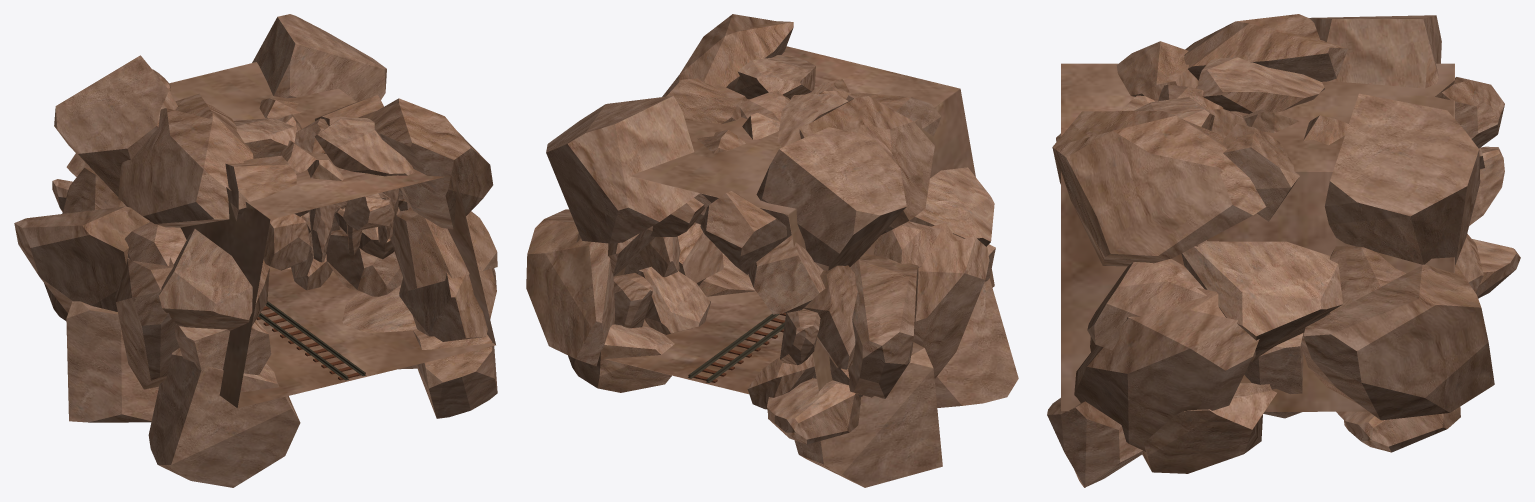
Rendered from MESH_Cave_Loop_1.fbx.
3 renders of one model, left to right at view 1: azimuth 30°, elevation 25°; view 2: azimuth 150°, elevation 25°; view 3: azimuth 270°, elevation 25°, orthographic. The views are drawn at different scales.
Visible parts, largest first — view 1: Ground, Rock1.019, Rock2.025, Rock2.022, Rock1.018, Rock2.012, Rock1.020, Rock1.009, Rock2.016, Rock2.021, Rock1.008, Rock1.021 (+20 smaller); view 2: Ground, Rock1.009, Rock1.018, Rock1.020, Rock2.009, Rock2.022, Rock2.021, Rock1.019, Rock2.025, Rock2.012, Rock2.029, Rock1.012 (+22 smaller); view 3: Ground, Rock2.012, Rock2.009, Rock1.009, Rock2.008, Rock2.003, Rock1.018, Rock2.027, Rock2.025, Rock1.008, Rock2.026, Rock1.021 (+14 smaller).
Part boxes in pixels (bbox=[...]): Ground: bbox=[150, 62, 495, 408]; Rock1.019: bbox=[148, 348, 300, 487]; Rock2.025: bbox=[118, 93, 253, 227]; Rock2.022: bbox=[14, 206, 149, 313]; Rock1.018: bbox=[54, 55, 177, 207]; Rock2.012: bbox=[358, 98, 493, 229]; Rock1.020: bbox=[66, 301, 158, 422]; Rock1.009: bbox=[252, 14, 386, 101]; Rock2.016: bbox=[159, 229, 269, 330]; Rock2.021: bbox=[115, 257, 179, 389]; Rock1.008: bbox=[390, 207, 497, 290]; Rock1.021: bbox=[413, 329, 497, 418]; Ground: bbox=[576, 46, 994, 394]; Rock1.009: bbox=[546, 95, 699, 243]; Rock1.018: bbox=[756, 127, 906, 270]; Rock1.020: bbox=[794, 342, 942, 487]; Rock2.009: bbox=[526, 209, 614, 366]; Rock2.022: bbox=[848, 253, 918, 398]; Rock2.021: bbox=[913, 223, 989, 378]; Rock1.019: bbox=[934, 278, 1018, 407]; Rock2.025: bbox=[799, 96, 934, 234]; Rock2.012: bbox=[662, 14, 793, 96]; Rock2.029: bbox=[767, 378, 860, 444]; Rock1.012: bbox=[700, 191, 786, 274]; Ground: bbox=[1061, 63, 1454, 411]; Rock2.012: bbox=[1052, 111, 1266, 266]; Rock2.009: bbox=[1301, 264, 1494, 420]; Rock1.009: bbox=[1324, 93, 1480, 264]; Rock2.008: bbox=[1074, 287, 1259, 451]; Rock2.003: bbox=[1181, 241, 1342, 362]; Rock1.018: bbox=[1309, 15, 1441, 88]; Rock2.027: bbox=[1141, 383, 1276, 473]; Rock2.025: bbox=[1184, 14, 1348, 81]; Rock1.008: bbox=[1087, 258, 1206, 350]; Rock2.026: bbox=[1197, 57, 1324, 113]; Rock1.021: bbox=[1047, 398, 1142, 487].
Bounding box in the file's own units: 25.76 × 21.89 × 24.05.
